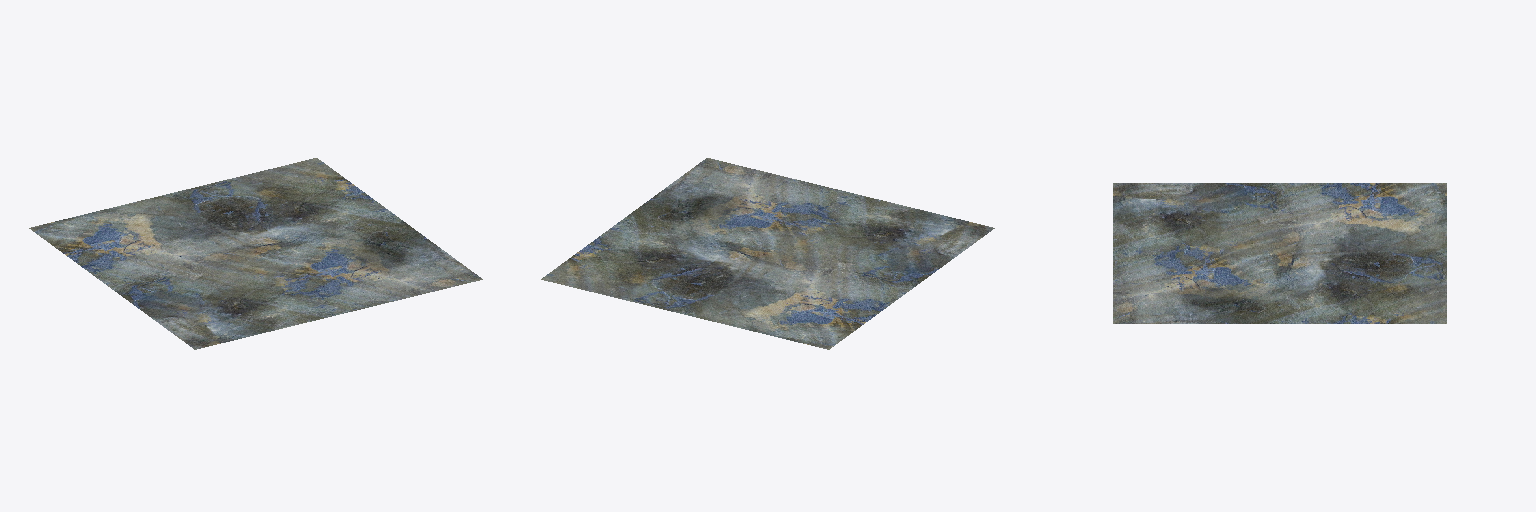
3 renders of one model, left to right at view 1: azimuth 30°, elevation 25°; view 2: azimuth 150°, elevation 25°; view 3: azimuth 270°, elevation 25°, orthographic.
Visible parts, largest first — view 1: ceiling; view 2: ceiling; view 3: ceiling.
Part boxes in pixels (x1,y1,x2,y2): ceiling: (29,158,482,349); ceiling: (541,158,994,349); ceiling: (1113,183,1446,323).
Size of the model in its own units: 0.9992 by 0.0146 by 0.9992.
1 materials, 1 textured.